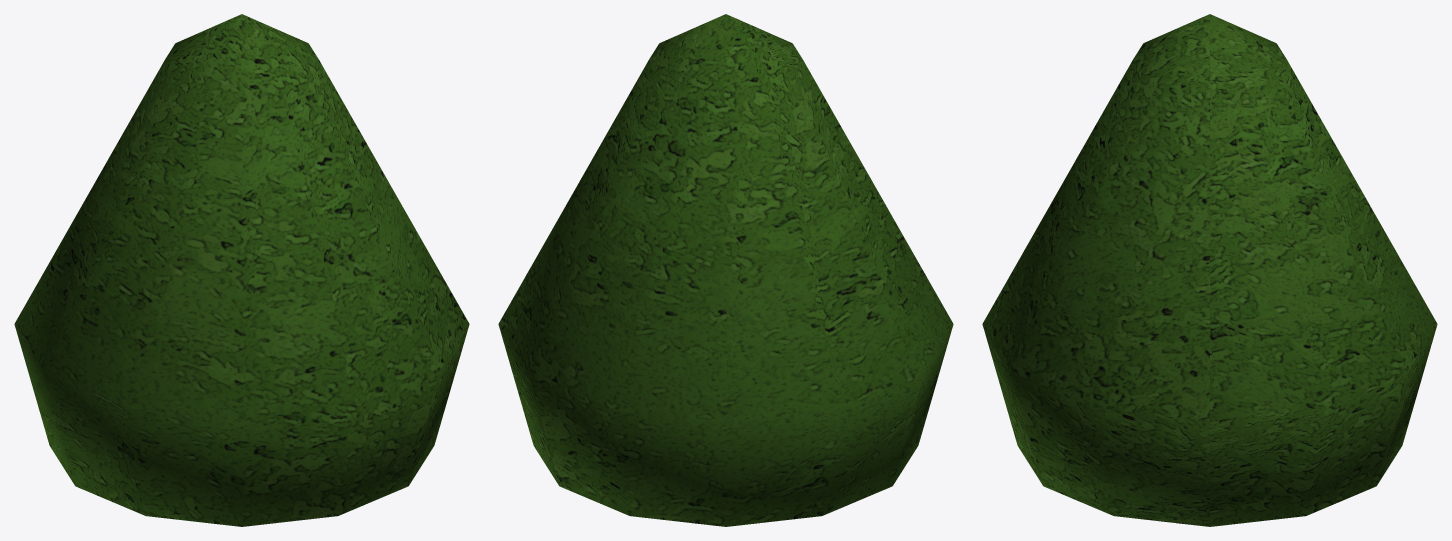
Rendered from TreeTop2.FBX.
3 renders of one model, left to right at view 1: azimuth 30°, elevation 25°; view 2: azimuth 150°, elevation 25°; view 3: azimuth 270°, elevation 25°, orthographic.
Visible parts, largest first — view 1: Cone007; view 2: Cone007; view 3: Cone007.
Boxes of the visible parts, left/top/right/bottom form: Cone007: left=14, top=14, right=469, bottom=526; Cone007: left=498, top=14, right=953, bottom=526; Cone007: left=982, top=14, right=1437, bottom=526.
Size of the model in its own units: 140 by 158 by 140.
